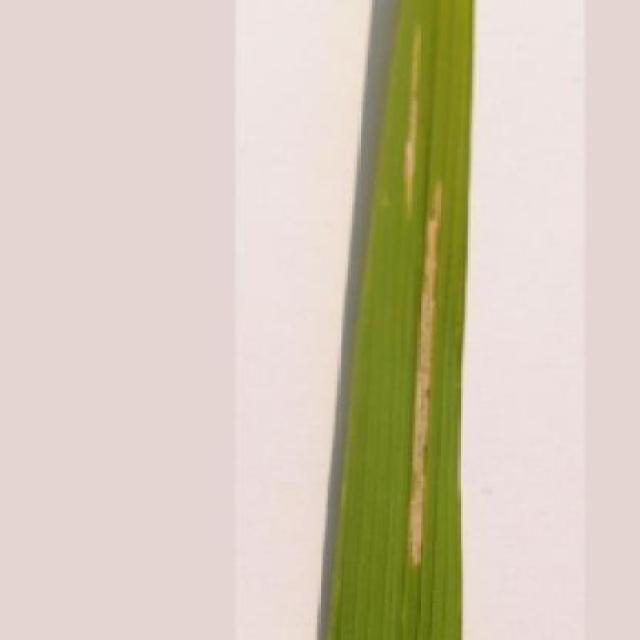Brown_Spot: (312, 0, 478, 640)
